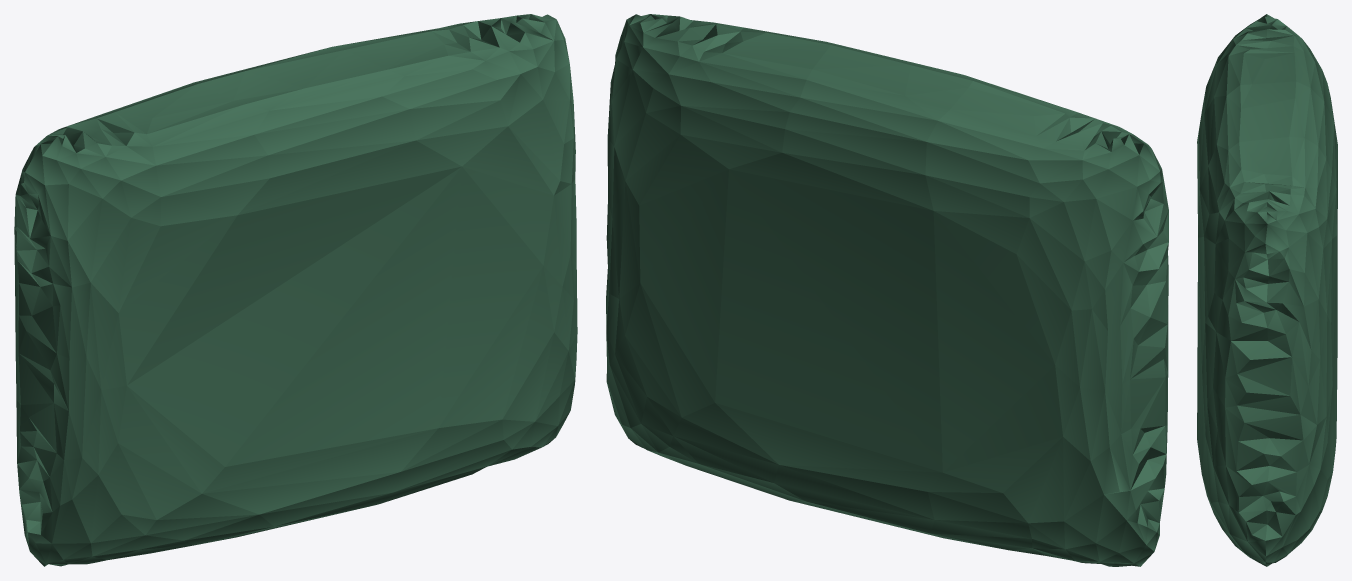
File: MeshPillow_3_0.obj
3 renders of one model, left to right at view 1: azimuth 30°, elevation 25°; view 2: azimuth 150°, elevation 25°; view 3: azimuth 270°, elevation 25°, orthographic. The views are drawn at different scales.
Visible parts, largest first — view 1: Pillow_3; view 2: Pillow_3; view 3: Pillow_3.
Boxes of the visible parts, box(x1,y1,x2,y2) form: Pillow_3: box(14, 14, 577, 566); Pillow_3: box(606, 14, 1168, 566); Pillow_3: box(1197, 14, 1337, 566).
Bounding box in the file's own units: 0.5172 × 0.3949 × 0.1401.
